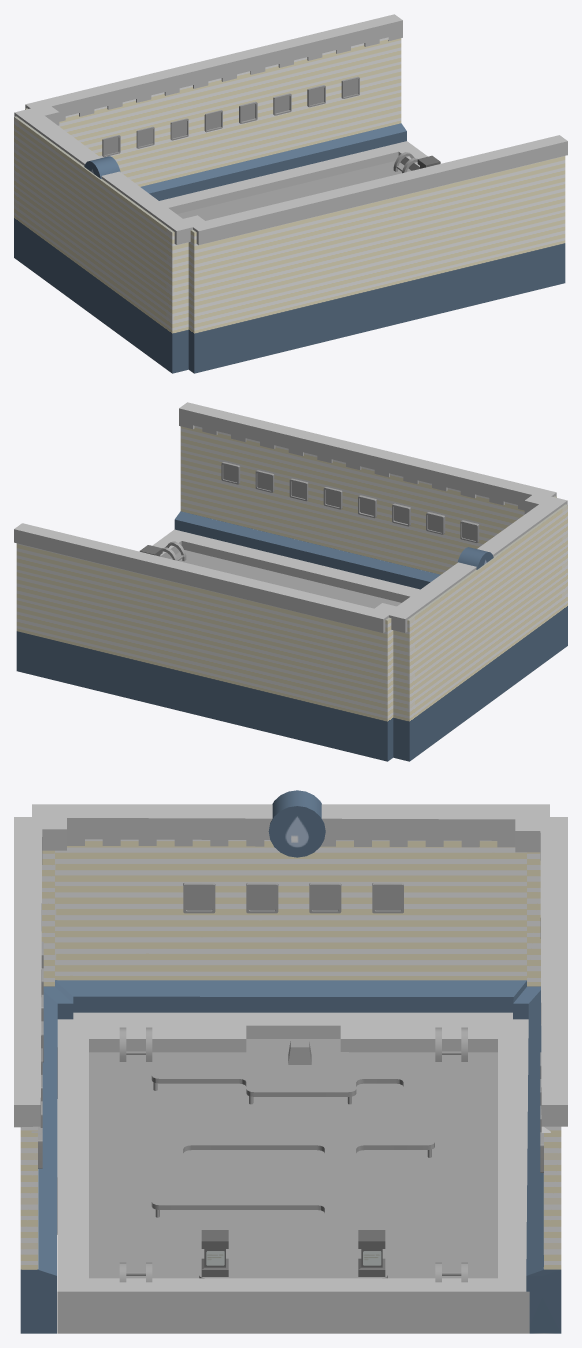
Rendered from FireRedGym.fbx.
3 views of the same model, one above another, from view 1: azimuth 30°, elevation 25°; view 2: azimuth 150°, elevation 25°; view 3: azimuth 270°, elevation 25° (orthographic). The views are drawn at different scales.
Visible parts, largest first — view 1: pCube36, pCube37, polySurface1114, pPlane6, pPlane1, pCylinder1; view 2: pCube36, pCube37, polySurface1114, pPlane6, pPlane1, pCylinder1; view 3: pCube36, pPlane1, polySurface1114, pCube37, polySurface1153, pPlane6, pCylinder1, Pedastle, polySurface1156.
Boxes of the visible parts, box(x1,y1,x2,y2) form: pCube36: box(14, 37, 565, 373); pCube37: box(14, 14, 567, 245); polySurface1114: box(159, 141, 427, 213); pPlane6: box(102, 76, 359, 156); pPlane1: box(177, 161, 411, 218); pCylinder1: box(84, 156, 120, 178); pCube36: box(16, 425, 567, 761); pCube37: box(14, 402, 567, 633); polySurface1114: box(152, 529, 419, 602); pPlane6: box(221, 462, 479, 542); pPlane1: box(170, 550, 401, 608); pCylinder1: box(457, 547, 493, 569); pCube36: box(20, 839, 561, 1333); pPlane1: box(89, 1039, 497, 1278); polySurface1114: box(57, 1012, 529, 1333); pCube37: box(14, 804, 567, 1132); polySurface1153: box(151, 1052, 434, 1278); pPlane6: box(38, 882, 543, 1172); pCylinder1: box(268, 790, 325, 857); Pedastle: box(201, 1230, 385, 1276); polySurface1156: box(119, 1027, 467, 1282).
Bounding box in the file's own units: 136 × 50.97 × 106.
